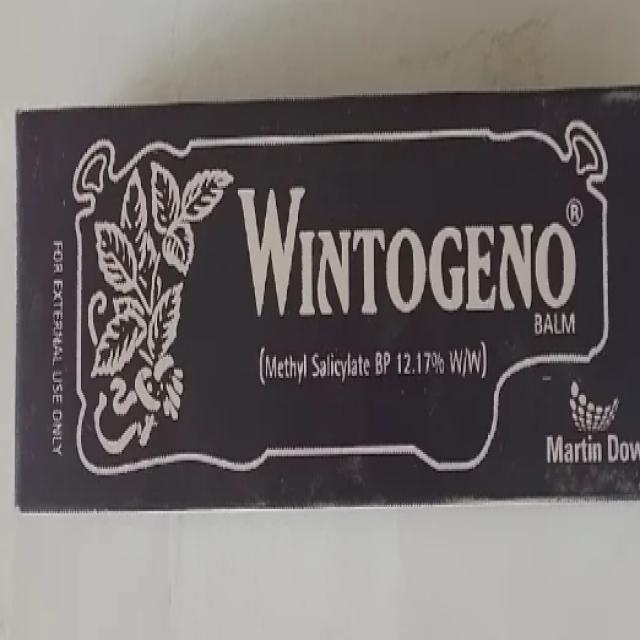drug-name: (234, 184, 582, 312)
